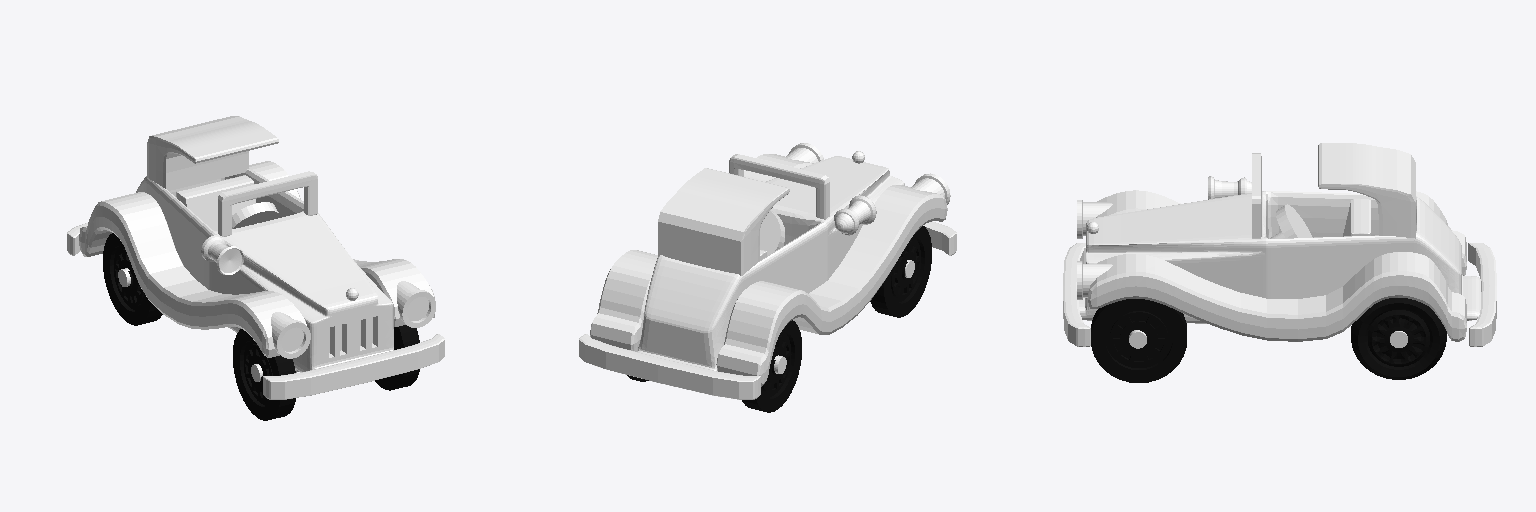
Rendered from car-decor.obj.
3 renders of one model, left to right at view 1: azimuth 30°, elevation 25°; view 2: azimuth 150°, elevation 25°; view 3: azimuth 270°, elevation 25°, orthographic.
Parts seen in each view (by area): view 1: car-decor; view 2: car-decor; view 3: car-decor.
Part boxes in pixels (x1,y1,x2,y2): car-decor: (67,116,444,420); car-decor: (579,143,956,412); car-decor: (1063,143,1496,382).
Bounding box in the file's own units: 0.2248 × 0.2266 × 0.4799.